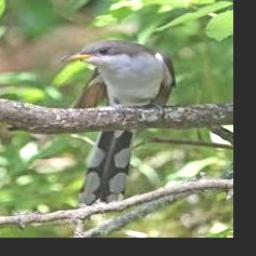Cuckoo: (61, 38, 174, 204)
